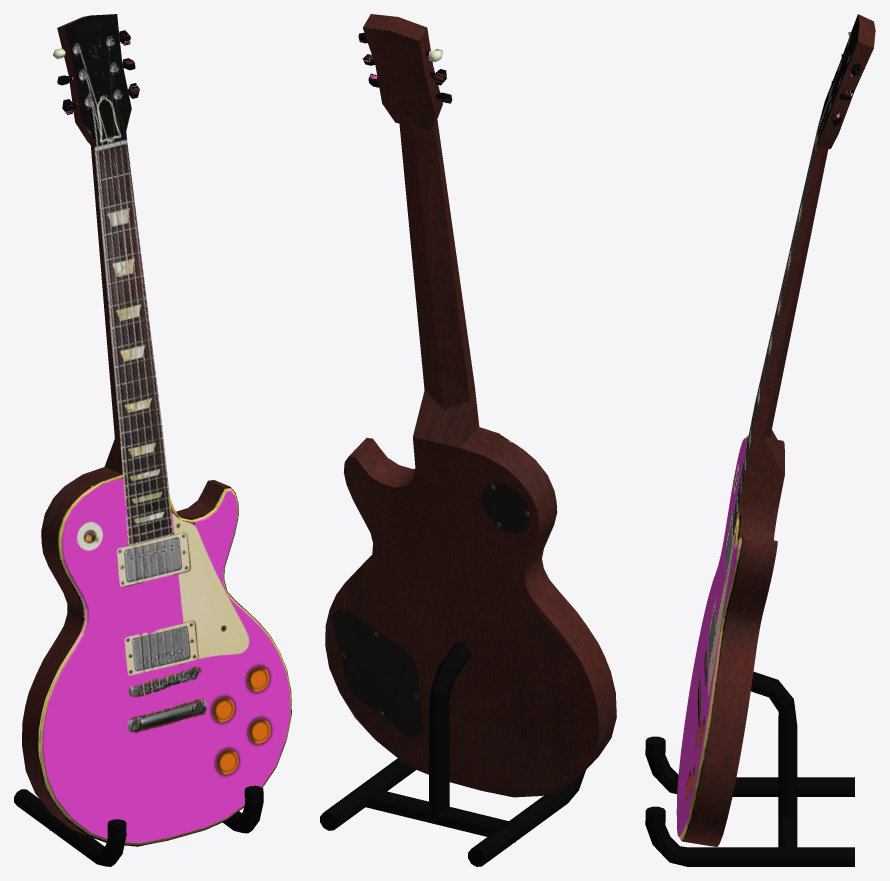
The model's file is gitar (1).fbx.
3 views of the same model, side by side, from view 1: azimuth 30°, elevation 25°; view 2: azimuth 150°, elevation 25°; view 3: azimuth 270°, elevation 25° (orthographic). The views are drawn at different scales.
Parts seen in each view (by area): view 1: Plane02, Cylinder.003; view 2: Plane02, Cylinder.003; view 3: Plane02, Cylinder.003.
Boxes of the visible parts, left/top/right/bottom form: Plane02: left=22, top=14, right=291, bottom=846; Cylinder.003: left=14, top=785, right=263, bottom=866; Plane02: left=325, top=14, right=616, bottom=797; Cylinder.003: left=320, top=642, right=585, bottom=866; Plane02: left=676, top=14, right=875, bottom=846; Cylinder.003: left=645, top=672, right=854, bottom=866.
Size of the model in its own units: 166 by 485 by 125.
